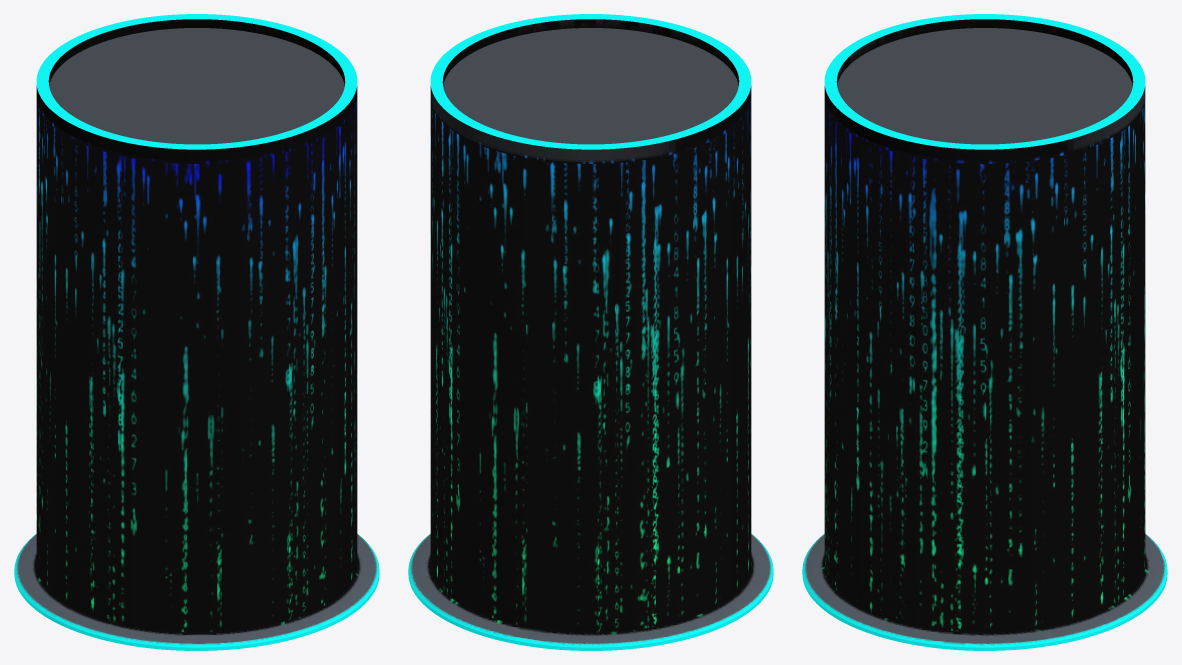
The model's file is Silos_s.gltf.
3 renders of one model, left to right at view 1: azimuth 30°, elevation 25°; view 2: azimuth 150°, elevation 25°; view 3: azimuth 270°, elevation 25°, orthographic.
Parts seen in each view (by area): view 1: Cylinder.001; view 2: Cylinder.001; view 3: Cylinder.001.
Part boxes in pixels (x1,y1,x2,y2): Cylinder.001: (14,14,379,650); Cylinder.001: (408,14,773,650); Cylinder.001: (802,14,1167,650).
Size of the model in its own units: 40.36 by 60 by 40.36.
Materials: 3 (3 with a texture image).
